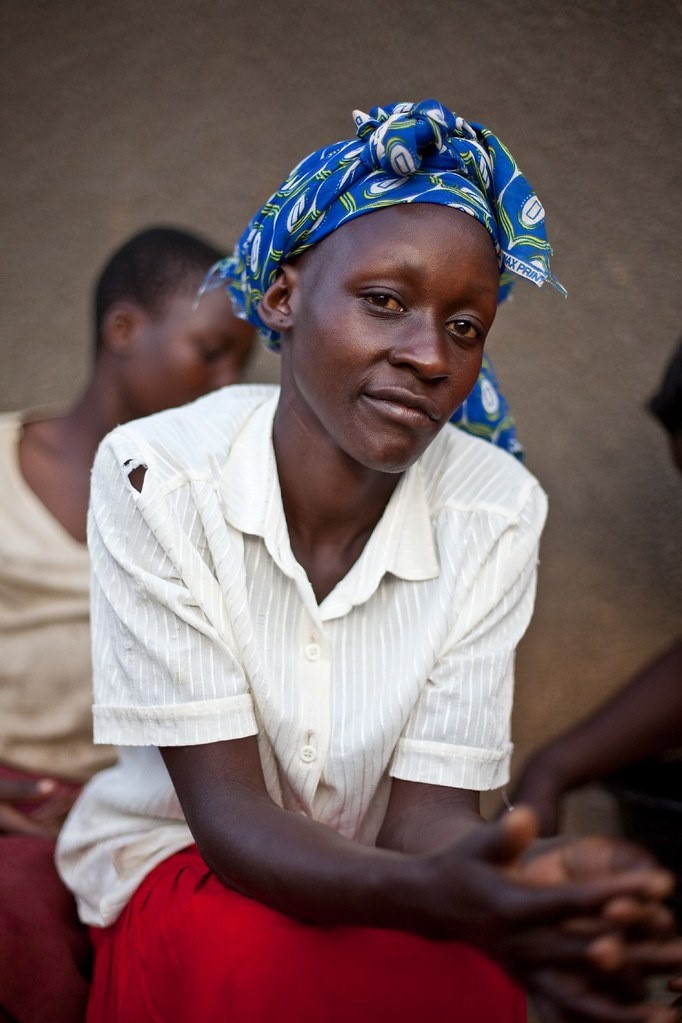face_no_mask: (270, 156, 493, 481), (88, 225, 253, 413)
